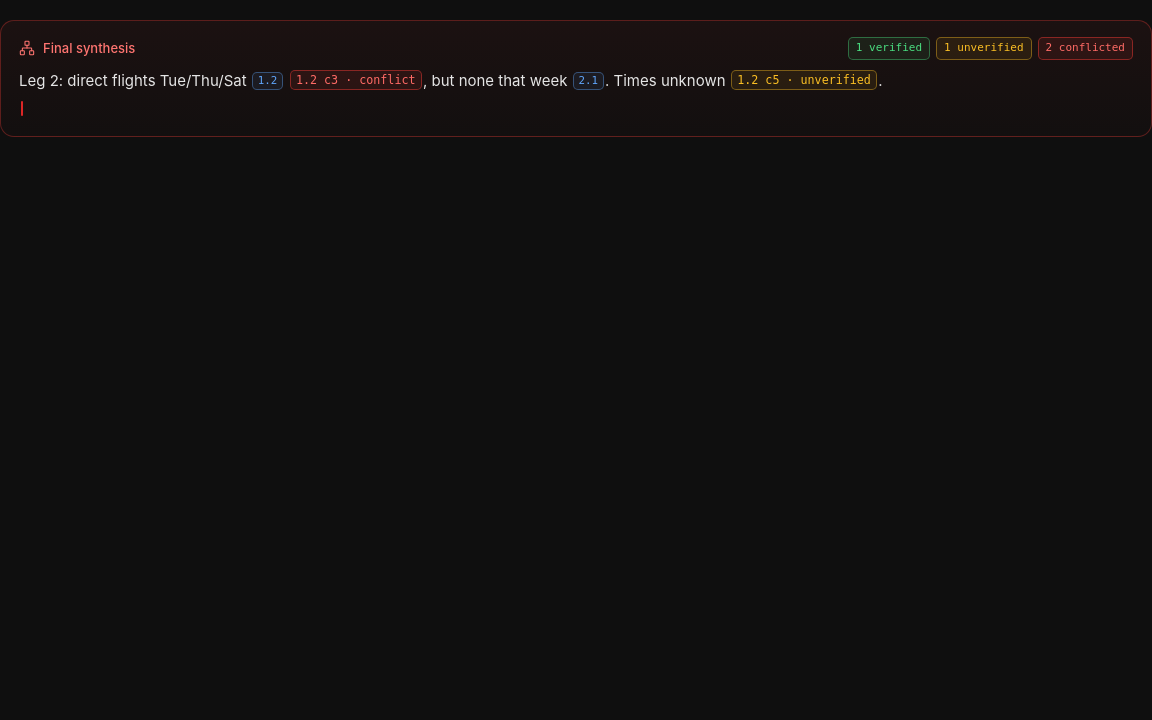
Scenario: ClaimsDrawer (spec B 7a) › a claim whose evidence was never stored says so, without an error
Click the link "1.2 c3 · conflict".
click(356, 80)  # box [290, 70, 422, 90]
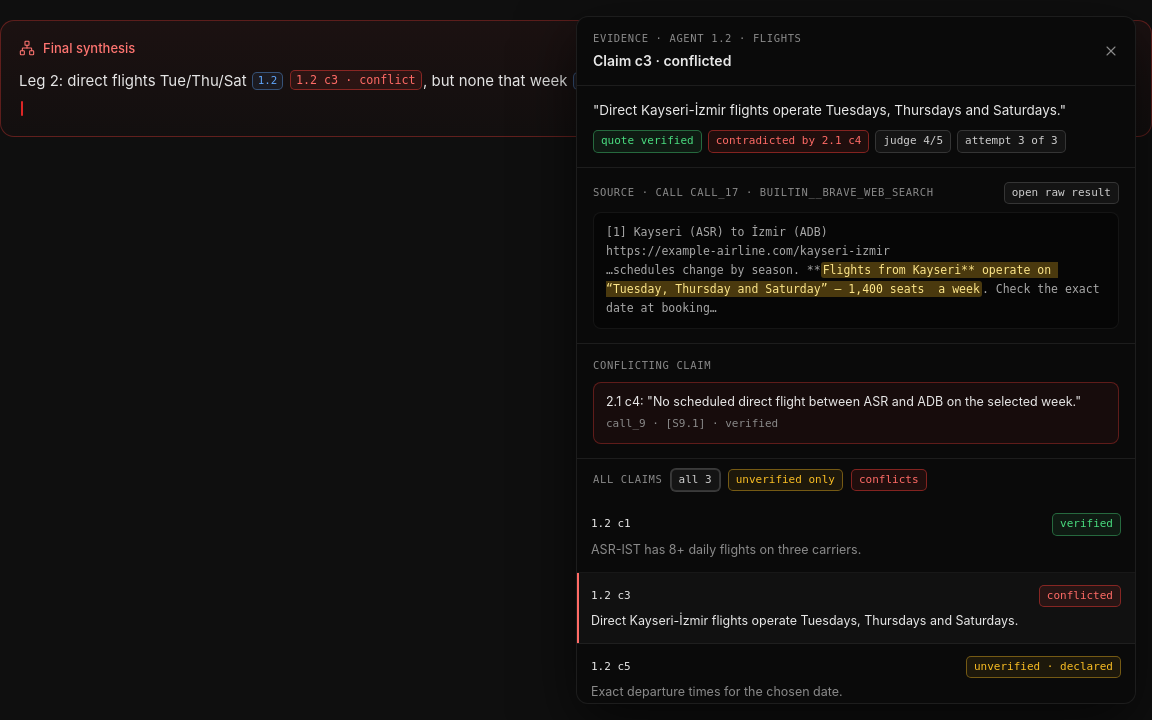
Click the button with test id "drawer-claim-row-1.2 c1".
click(611, 524)  # box [577, 501, 1135, 573]
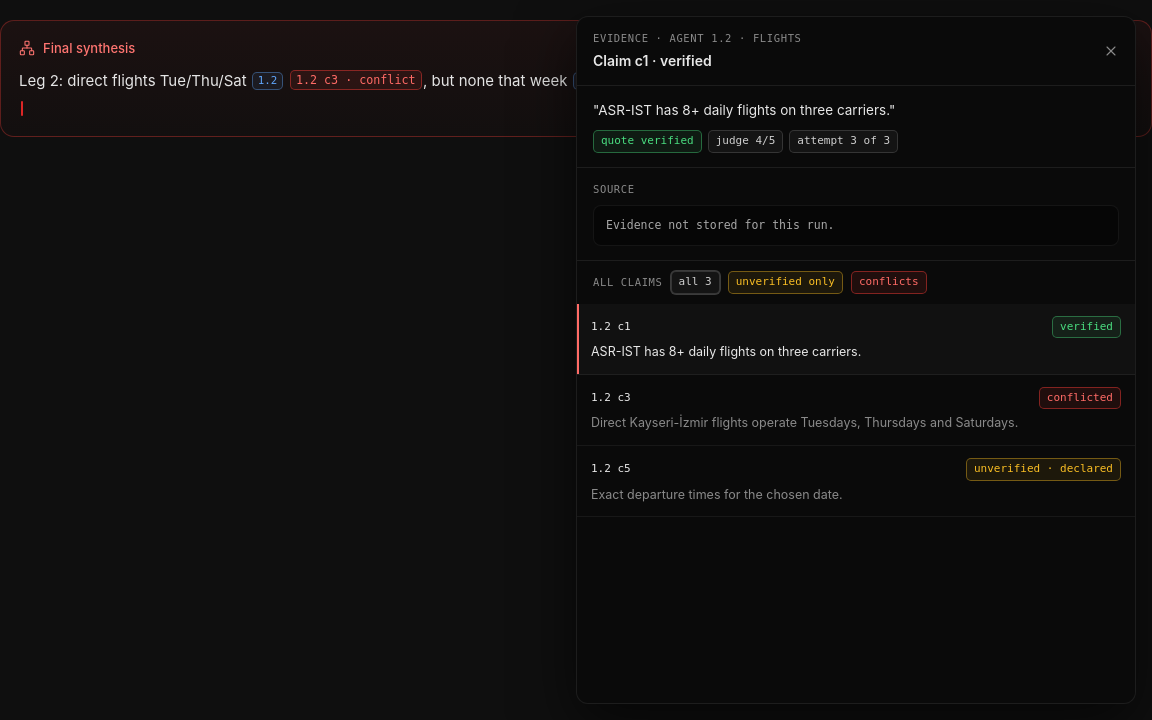
Now the text "Evidence not stored for this run." is shown, box [593, 205, 1119, 246]
Click the button with test id "drawer-claim-row-1.2 c5".
click(611, 469)  # box [577, 446, 1135, 518]
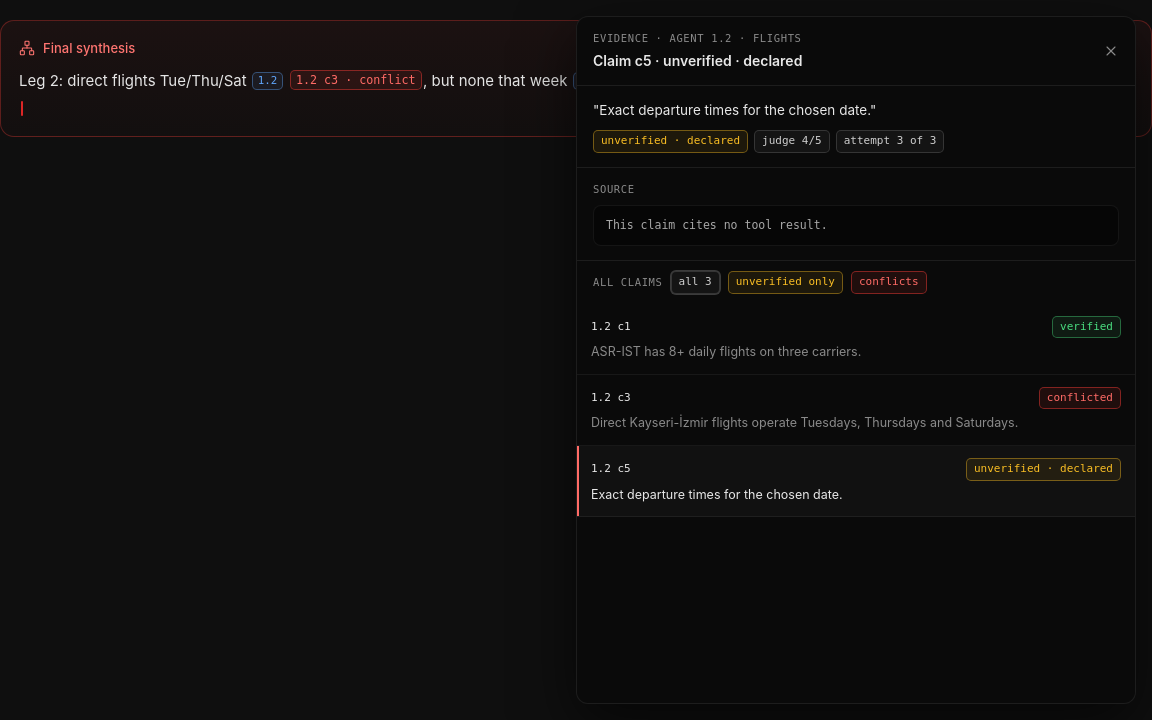
Now the text "This claim cites no tool result." is shown, box [593, 205, 1119, 246]
